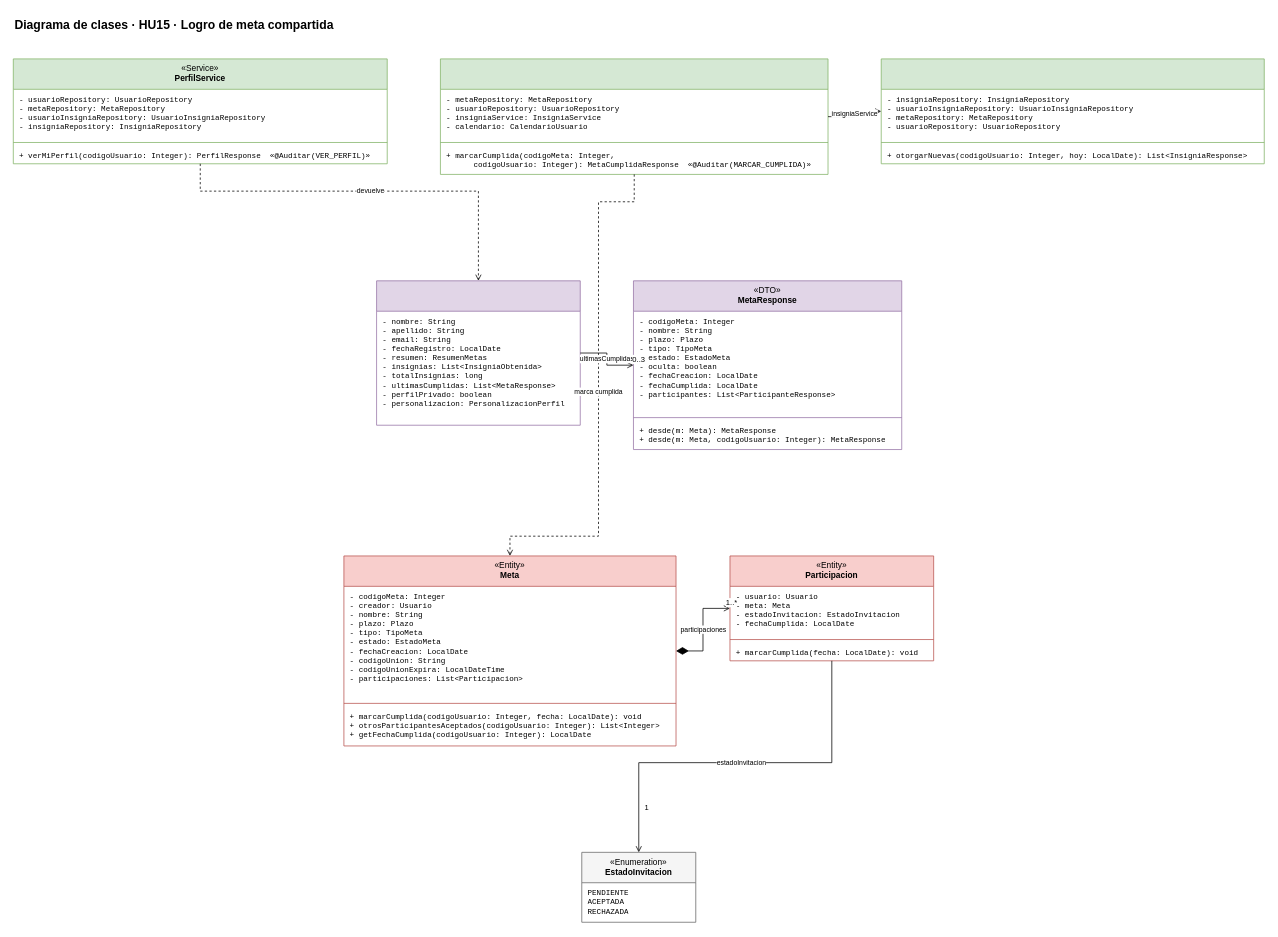
This 1278x937 diagram has some shape labels left out. The shapes that lost their labels are listed below. From the top down, each one's box as (x1, y1, x2, y2) in pixels, then its label:
(440, 58, 828, 174): «Service» MetaService
(880, 58, 1264, 164): «Service» InsigniaService
(376, 280, 580, 425): «DTO» PerfilResponse
